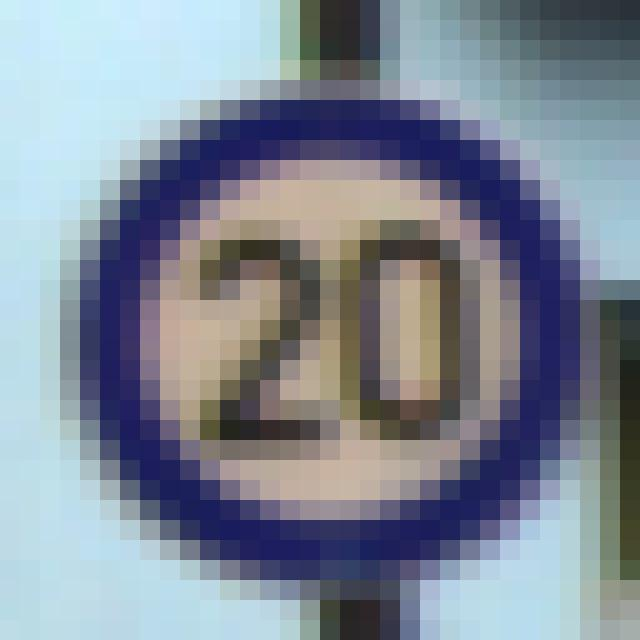SPEED LIMIT 20: (79, 97, 570, 564)
